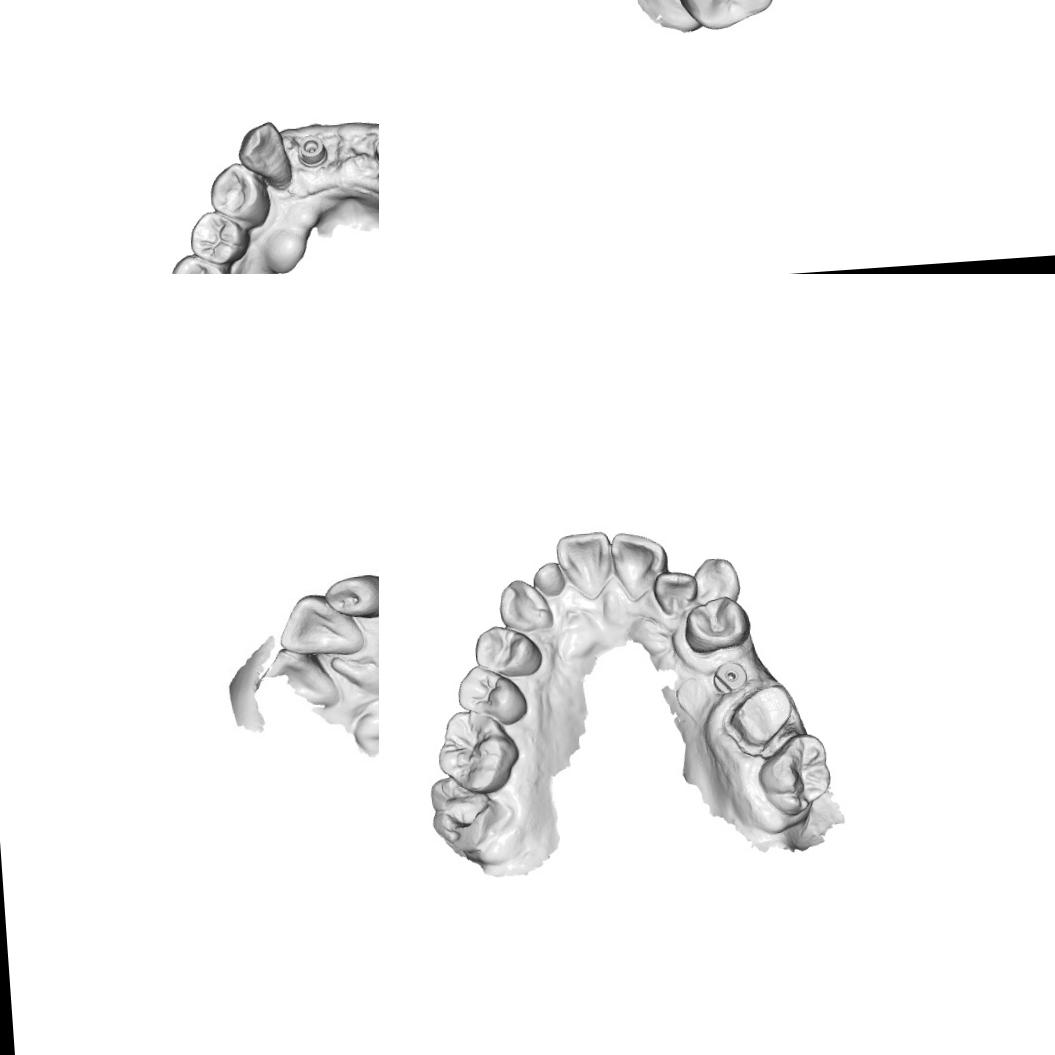canine: (234, 117, 296, 189), (494, 576, 554, 634), (691, 554, 742, 604)
crown: (723, 680, 798, 750)
implant: (708, 657, 750, 696), (296, 131, 330, 169), (369, 134, 379, 166)
incisor: (278, 591, 365, 666), (608, 527, 672, 604), (553, 528, 614, 603), (323, 573, 379, 620), (650, 568, 699, 620), (530, 560, 566, 598)
molar: (432, 707, 521, 798), (754, 728, 834, 818), (426, 773, 504, 850), (667, 0, 781, 34), (157, 250, 236, 274)
premolar: (454, 659, 530, 729), (206, 158, 272, 230), (470, 621, 545, 681), (680, 593, 752, 655), (187, 208, 252, 266)
